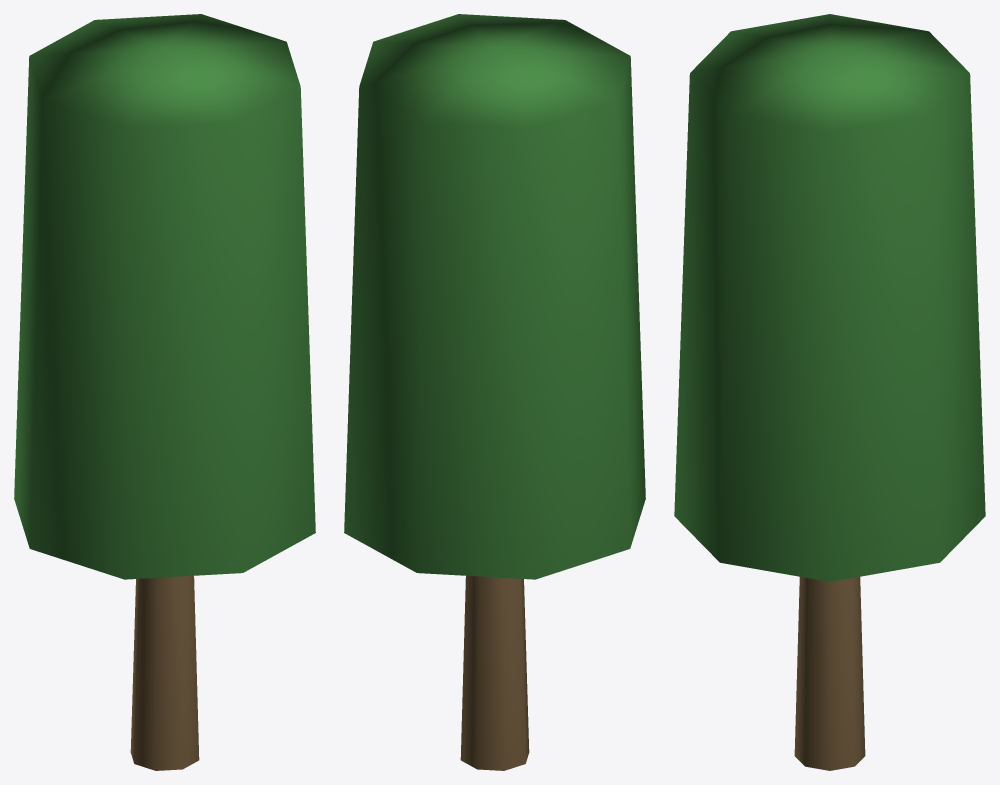
File: Bush.glb
3 renders of one model, left to right at view 1: azimuth 30°, elevation 25°; view 2: azimuth 150°, elevation 25°; view 3: azimuth 270°, elevation 25°, orthographic.
Visible parts, largest first — view 1: Cylinder; view 2: Cylinder; view 3: Cylinder.
Part boxes in pixels (<box>): Cylinder: <box>14,14,315,770</box>; Cylinder: <box>344,14,645,770</box>; Cylinder: <box>674,14,985,770</box>.
Bounding box in the file's own units: 1.11 × 2.77 × 1.11.
